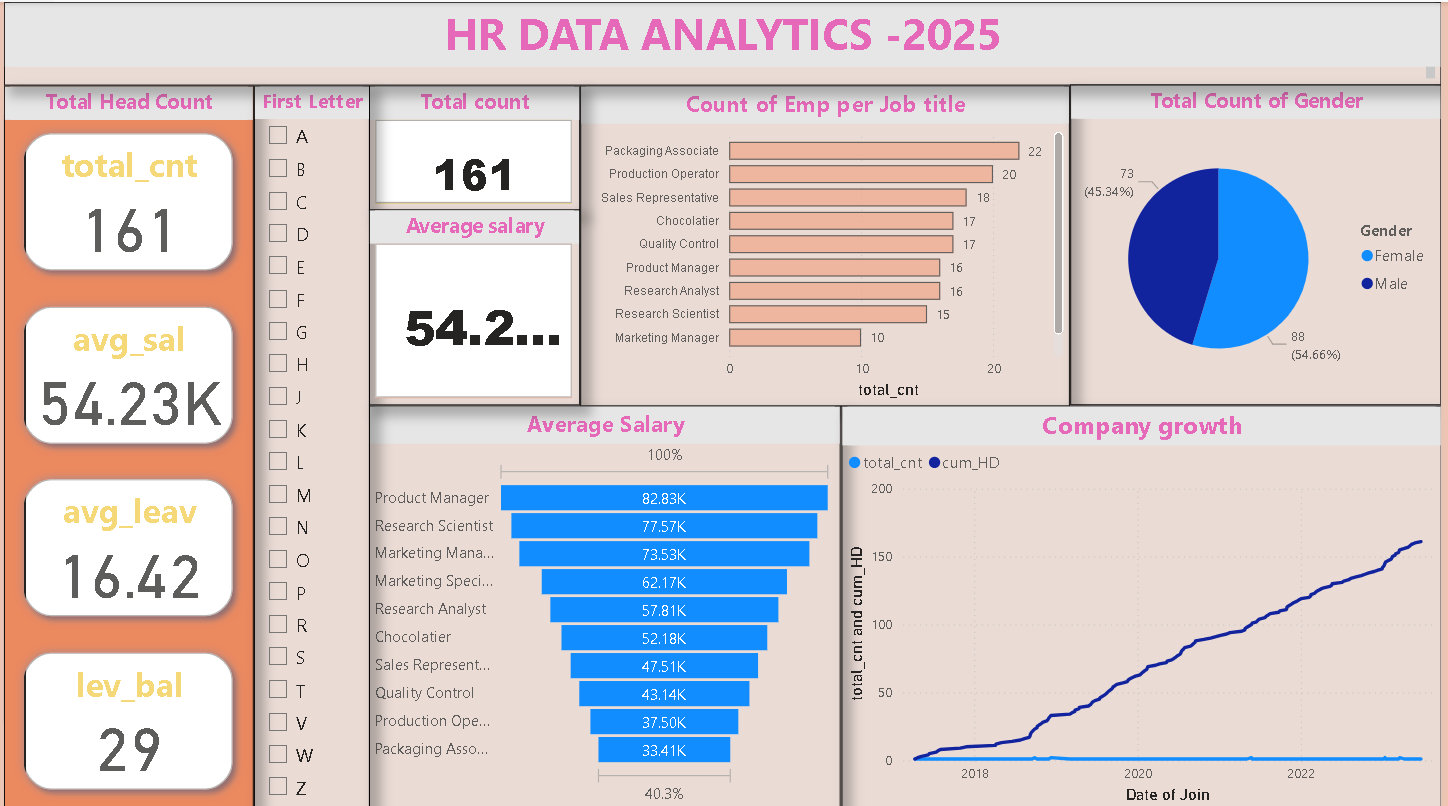

The dashboard page shown, as its layout file describes it:
{"tool":"powerbi","page":{"name":"DAHBOARD","canvas":[1280,720],"ordinal":10},"visuals":[{"type":"cardVisual","title":"Total Head Count","fields":{"Data":["staff.total_cnt","staff.avg_sal","staff.avg_leav","staff.lev_bal"]},"box":[0,74.1,222.3,646.3],"z":0},{"type":"barChart","title":"Count of Emp per Job title","fields":{"Y":["staff.total_cnt"],"Category":["staff.Job Title"]},"box":[513.2,74.1,436.4,285.4],"z":1000},{"type":"pieChart","title":"Total Count of Gender","fields":{"Category":["staff.Gender"],"Y":["staff.total_cnt"]},"box":[949.5,73.6,330.6,285.9],"z":2000},{"type":"funnel","title":"Average Salary","fields":{"Y":["staff.sum_sal"],"Category":["staff.Job Title"]},"box":[325.2,359.5,419.9,360.9],"z":3000},{"type":"lineChart","title":"Company growth ","fields":{"Y":["staff.total_cnt","staff.cum_HD"],"Category":["staff.Date of Join"]},"box":[745.6,359.5,534.5,360.7],"z":4000},{"type":"cardVisual","title":"Total count","fields":{"Data":["staff.total_cnt"]},"box":[325.2,74.1,188,111.1],"z":5000},{"type":"slicer","title":"First Letter","fields":{"Values":["staff.First Characters"]},"box":[222.3,74.1,102.9,646.3],"z":6000},{"type":"cardVisual","title":"Average salary","fields":{"Data":["staff.avg_sal"]},"box":[325.2,185.2,188,174.3],"z":7000},{"type":"textbox","title":"HR DATA ANALYTICS -2025","box":[0,0,1280.3,74.1],"z":8000}]}

Visuals, with their boxes in screenshot pixels (x1, y1, x2, y2), scaled from the page's 1280x720 canvas onto the 1448x806 screenshot:
"Total Head Count" cardVisual: 0 83 251 805
"Count of Emp per Job title" barChart: 581 83 1074 402
"Total Count of Gender" pieChart: 1074 82 1447 402
"Average Salary" funnel: 368 402 843 805
"Company growth " lineChart: 843 402 1447 805
"Total count" cardVisual: 368 83 581 207
"First Letter" slicer: 251 83 368 805
"Average salary" cardVisual: 368 207 581 402
"HR DATA ANALYTICS -2025" textbox: 0 0 1447 83
